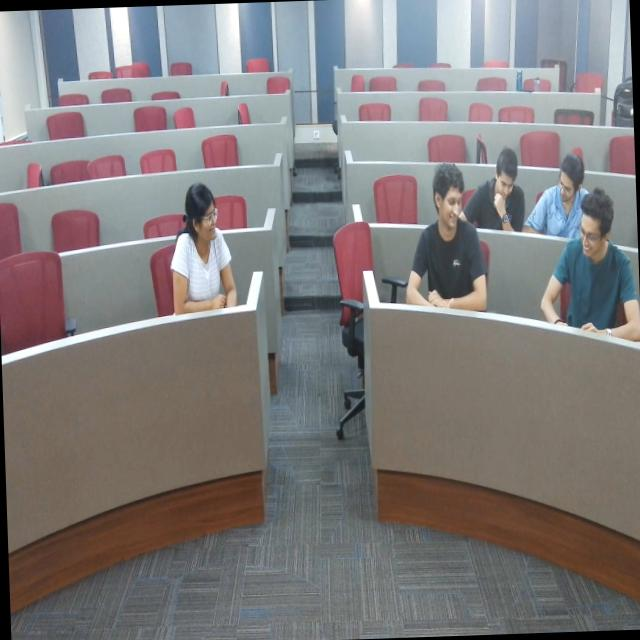cheating: (408, 158, 484, 312), (176, 179, 240, 312), (562, 188, 624, 278), (536, 149, 582, 237)
